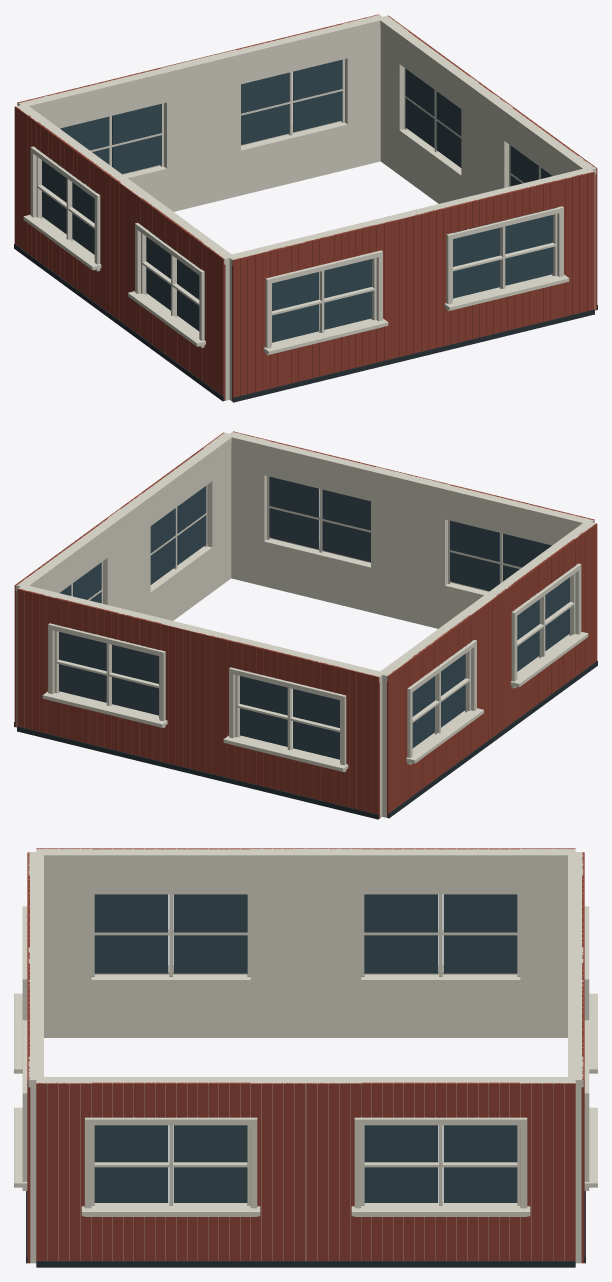
The model's file is harbour_office_upper_floor.glb.
3 renders of one model, top to bottom at view 1: azimuth 30°, elevation 25°; view 2: azimuth 150°, elevation 25°; view 3: azimuth 270°, elevation 25°, orthographic. The views are drawn at different scales.
Parts seen in each view (by area): view 1: Structure; view 2: Structure; view 3: Structure.
Part boxes in pixels (left/top/right/bottom): Structure: left=14, top=14, right=597, bottom=402; Structure: left=14, top=431, right=597, bottom=819; Structure: left=14, top=848, right=597, bottom=1267.
Bounding box in the file's own units: 8.66 × 3 × 8.66.
